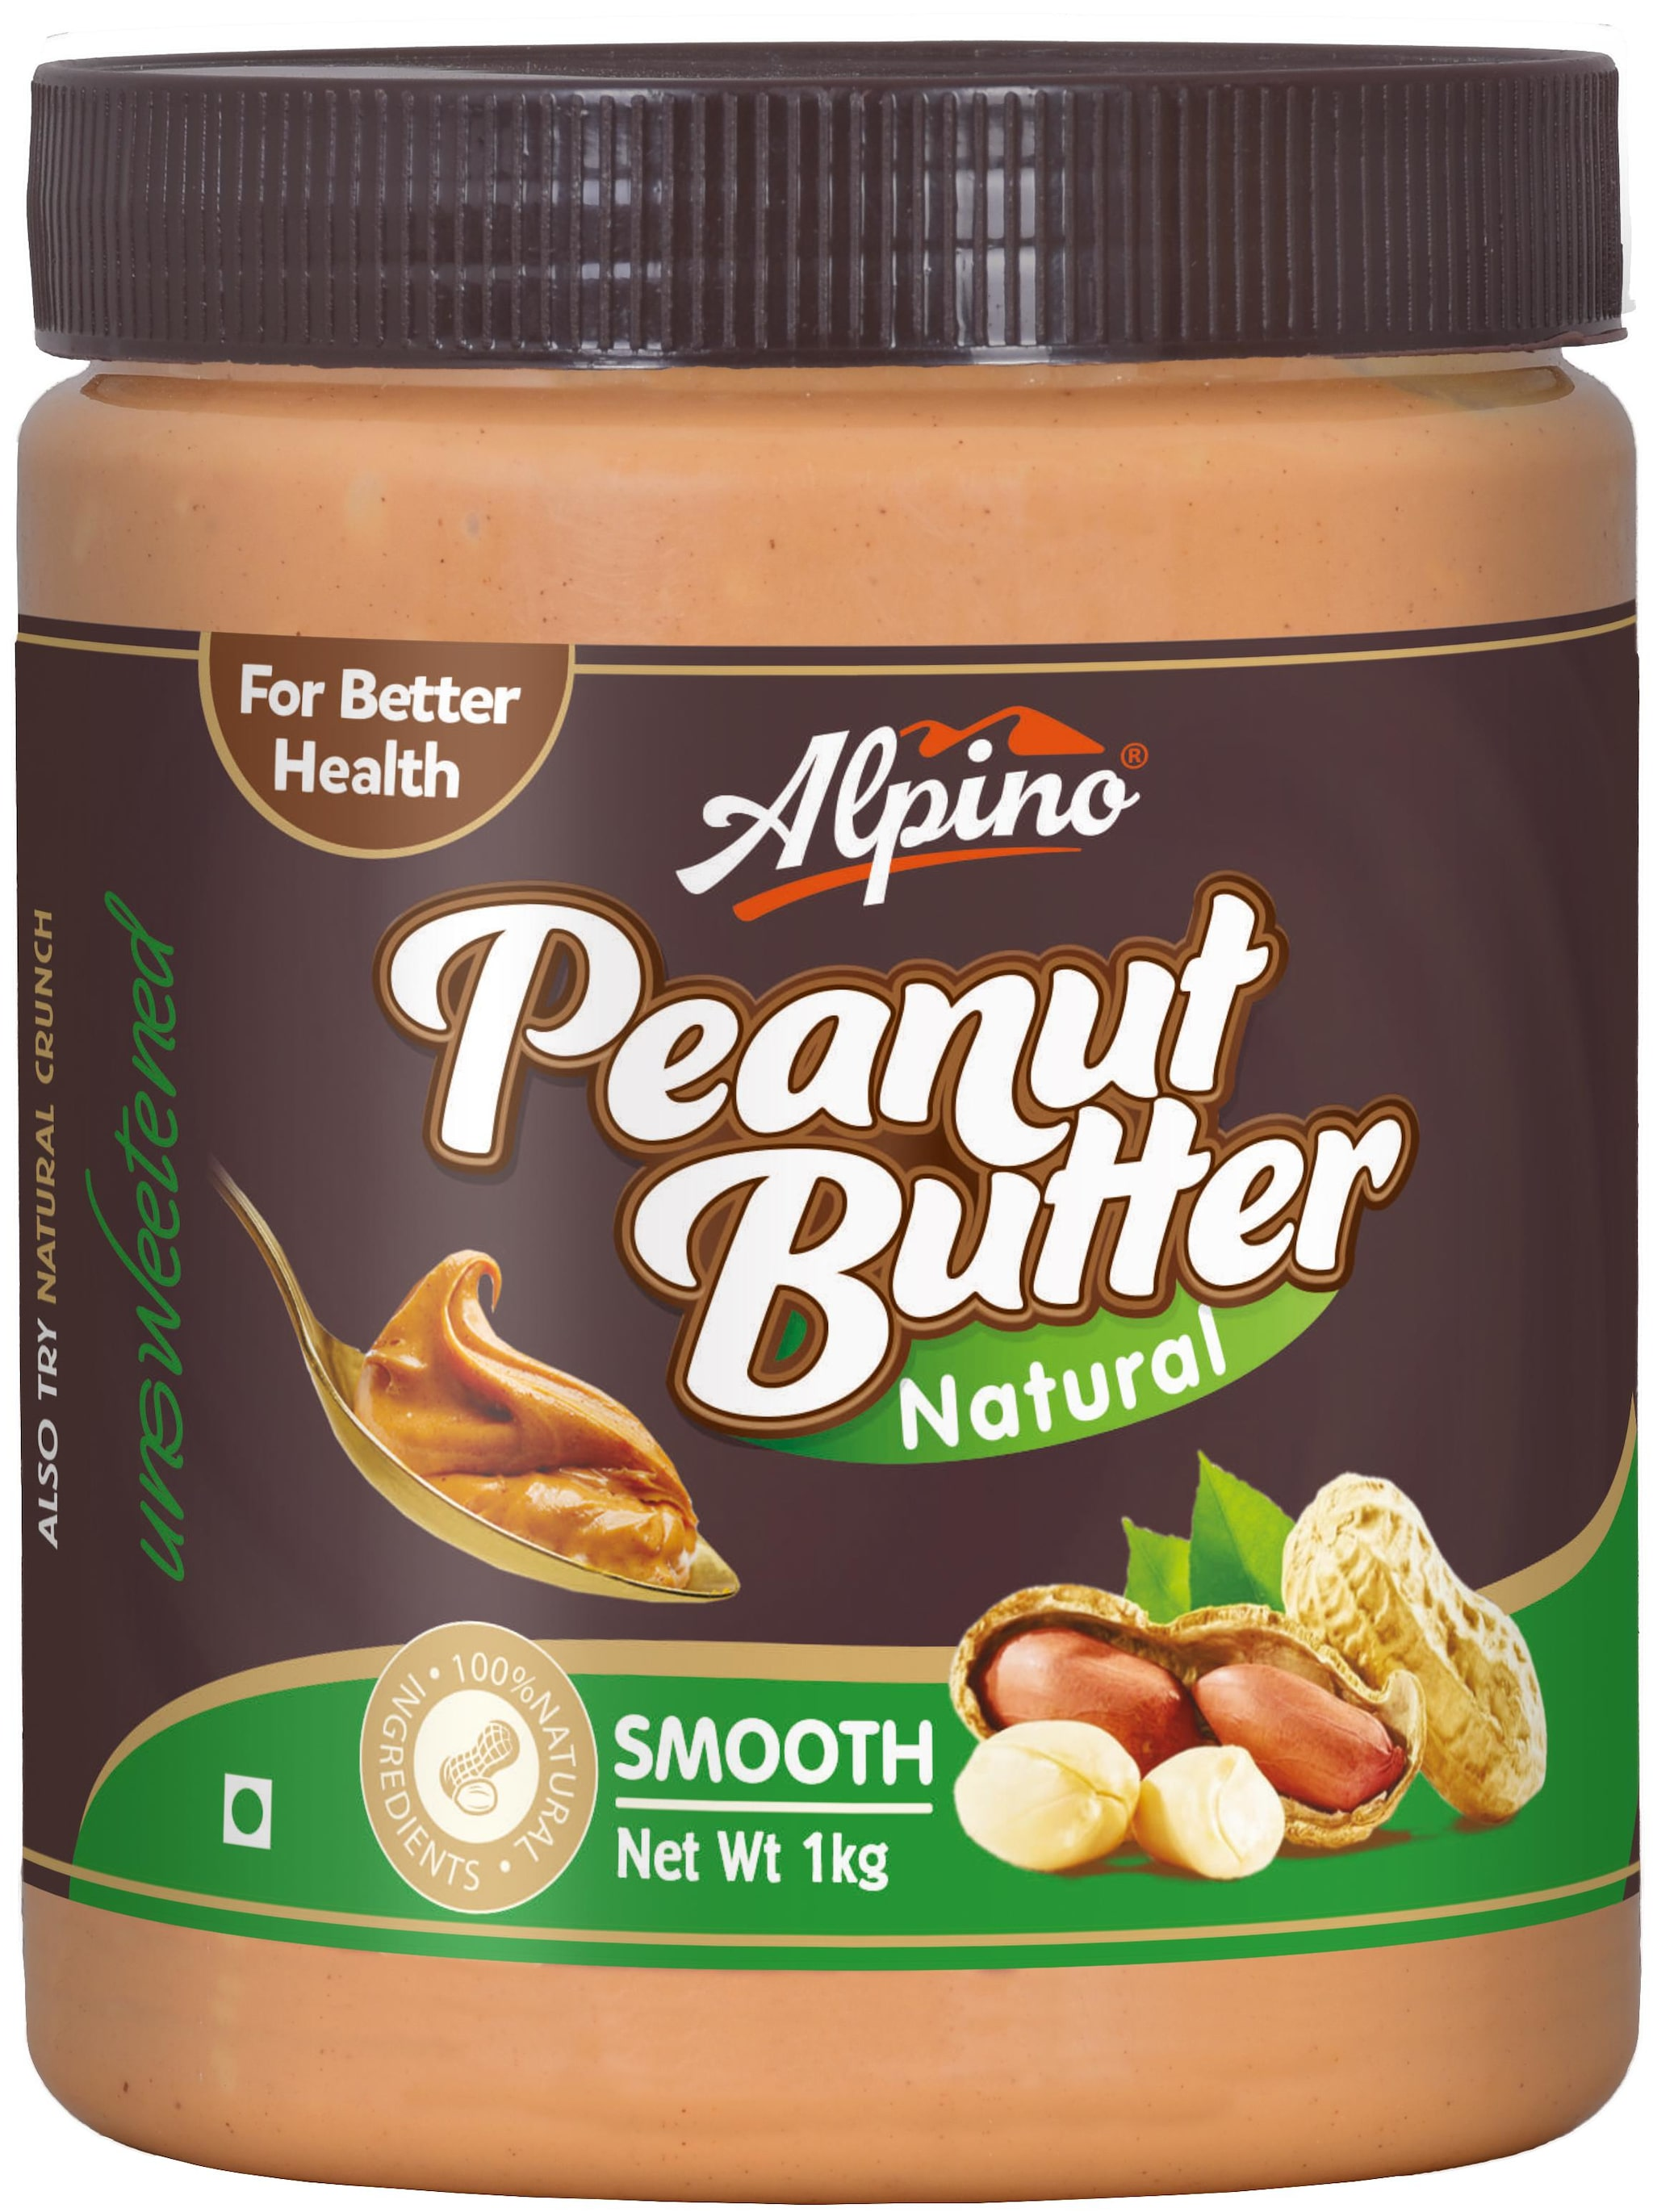JAR: (9, 19, 1653, 2210)
